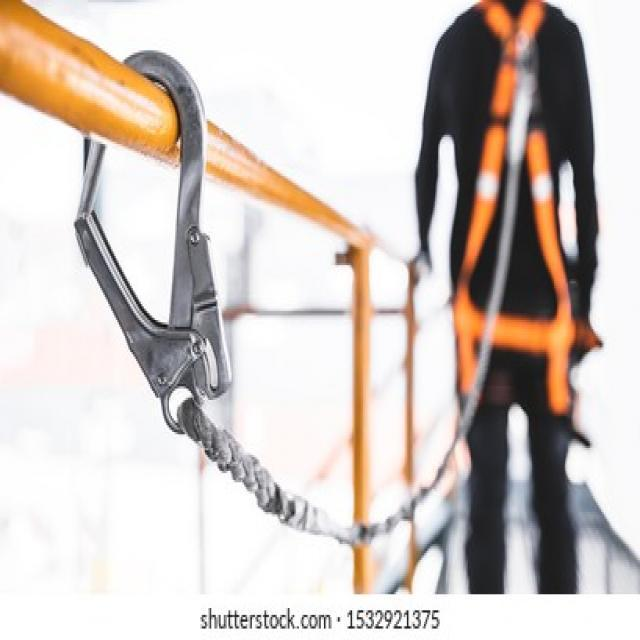belt: (483, 17, 559, 292)
